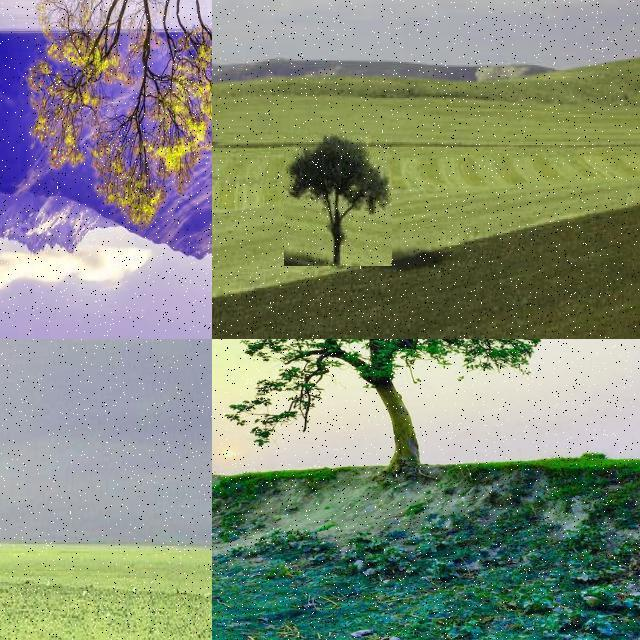tree: (212, 340, 560, 508), (0, 1, 212, 236), (284, 134, 392, 266)
